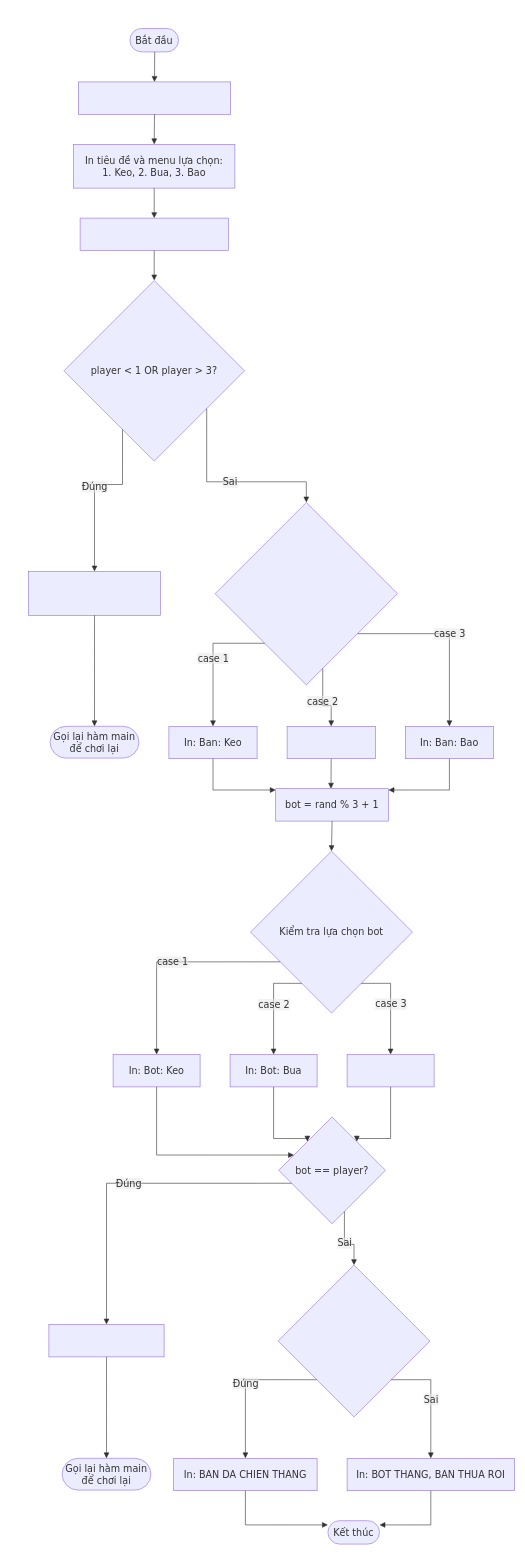
The diagram is 525 pixels wide and 1555 high, and some of its shapes have lost their labels. The centre of each missing label's shape, as x and y in pixels:
In thông báo lỗi: Lua chon khong hop le: the point at 94,593
In: Ban: Bua: the point at 330,742
In: Bot: Bao: the point at 390,1070
In: TRAN DAU HOA: the point at 106,1340
Khởi tạo seed srand time 0: the point at 154,97
Kiểm tra lựa chọn player: the point at 306,593
Nhập lựa chọn của player: the point at 154,234
player=1 && bot=3 OR player=3 && bot=2 OR player=2 && bot=1?: the point at 354,1340
